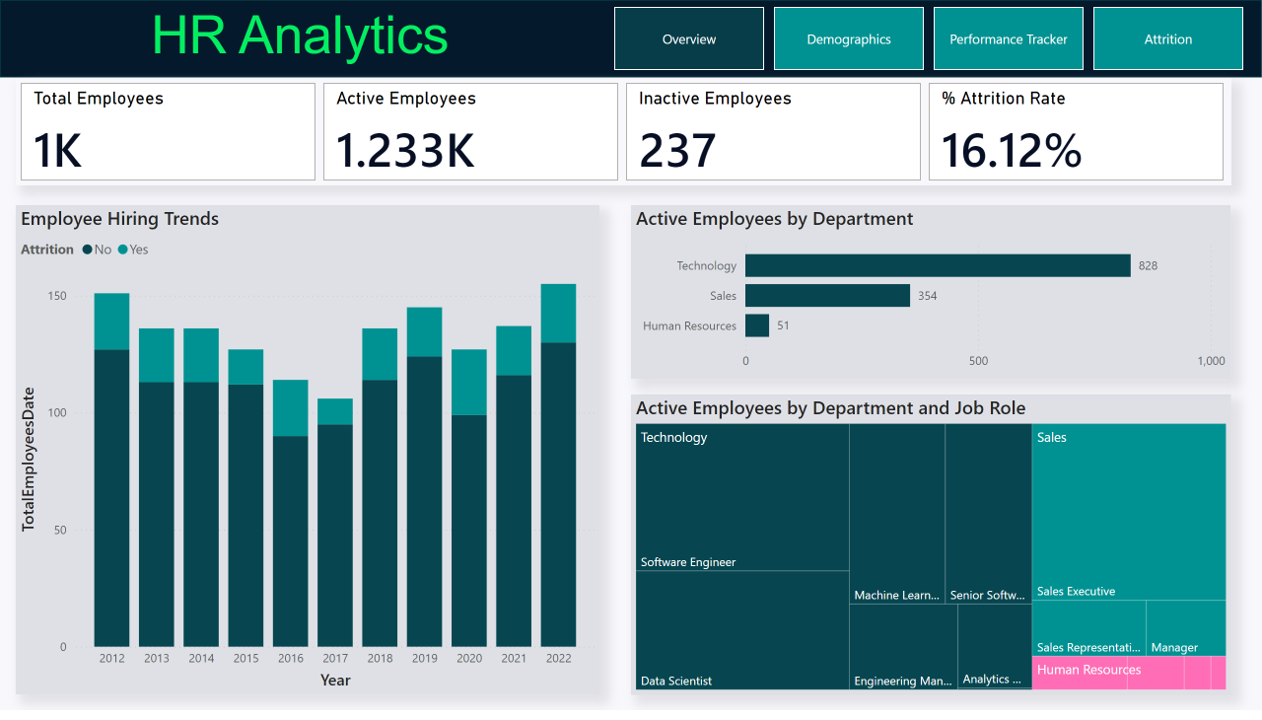

This screenshot's page, from the dashboard's own definition file:
{"tool":"powerbi","page":{"name":"Overview","canvas":[1280,720],"ordinal":0},"visuals":[{"type":"columnChart","title":"Employee Hiring Trends","fields":{"Category":["DimDate.Date.Variation.Date Hierarchy.Year"],"Series":["DimEmployee.Attrition"],"Y":["DimDate.TotalEmployeesDate"]},"box":[16,208,592,496],"z":0},{"type":"clusteredBarChart","title":"Active Employees by Department","fields":{"Category":["DimEmployee.Department"],"Y":["DimDate.ActiveEmployees"]},"box":[640,208,608,176],"z":1000},{"type":"treemap","title":"Active Employees by Department and Job Role","fields":{"Details":["DimEmployee.JobRole"],"Group":["DimEmployee.Department"],"Values":["DimDate.ActiveEmployees"]},"box":[640.5,400,608.6,304.3],"z":2000},{"type":"shape","box":[0,0,1279.8,78.5],"z":3000},{"type":"textbox","box":[0,0,623.3,78.5],"z":4000},{"type":"pageNavigator","box":[623.3,7.4,640,64],"z":5000},{"type":"cardVisual","fields":{"Data":["DimDate.TotalEmployees","DimDate.ActiveEmployees","DimDate.InactiveEmployees","DimDate.% Attrition Rate"]},"box":[16,78.5,1233.1,109.2],"z":6000}]}

Visuals, with their boxes in screenshot pixels (x1, y1, x2, y2), scaled from the page's 1280x720 canvas onto the 1262x720 screenshot:
"Employee Hiring Trends" columnChart: {"x1": 16, "y1": 208, "x2": 599, "y2": 704}
"Active Employees by Department" clusteredBarChart: {"x1": 631, "y1": 208, "x2": 1230, "y2": 384}
"Active Employees by Department and Job Role" treemap: {"x1": 631, "y1": 400, "x2": 1232, "y2": 704}
shape: {"x1": 0, "y1": 0, "x2": 1261, "y2": 78}
textbox: {"x1": 0, "y1": 0, "x2": 615, "y2": 78}
pageNavigator: {"x1": 615, "y1": 7, "x2": 1246, "y2": 71}
cardVisual - DimDate.TotalEmployees x DimDate.ActiveEmployees: {"x1": 16, "y1": 78, "x2": 1232, "y2": 188}
